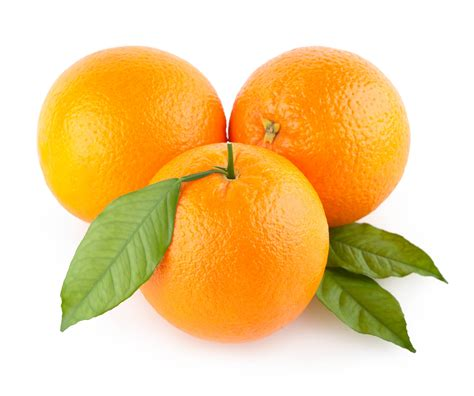orange: (129, 139, 336, 345), (32, 41, 227, 226), (229, 42, 415, 227)
